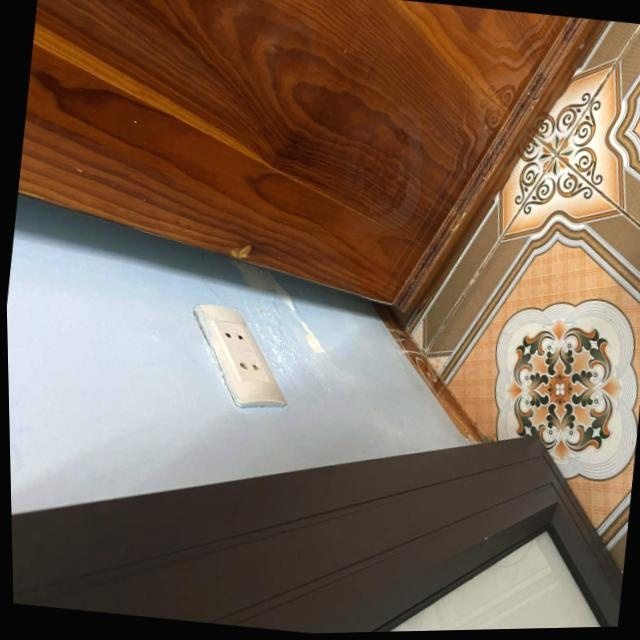outlet: (180, 299, 298, 414)
